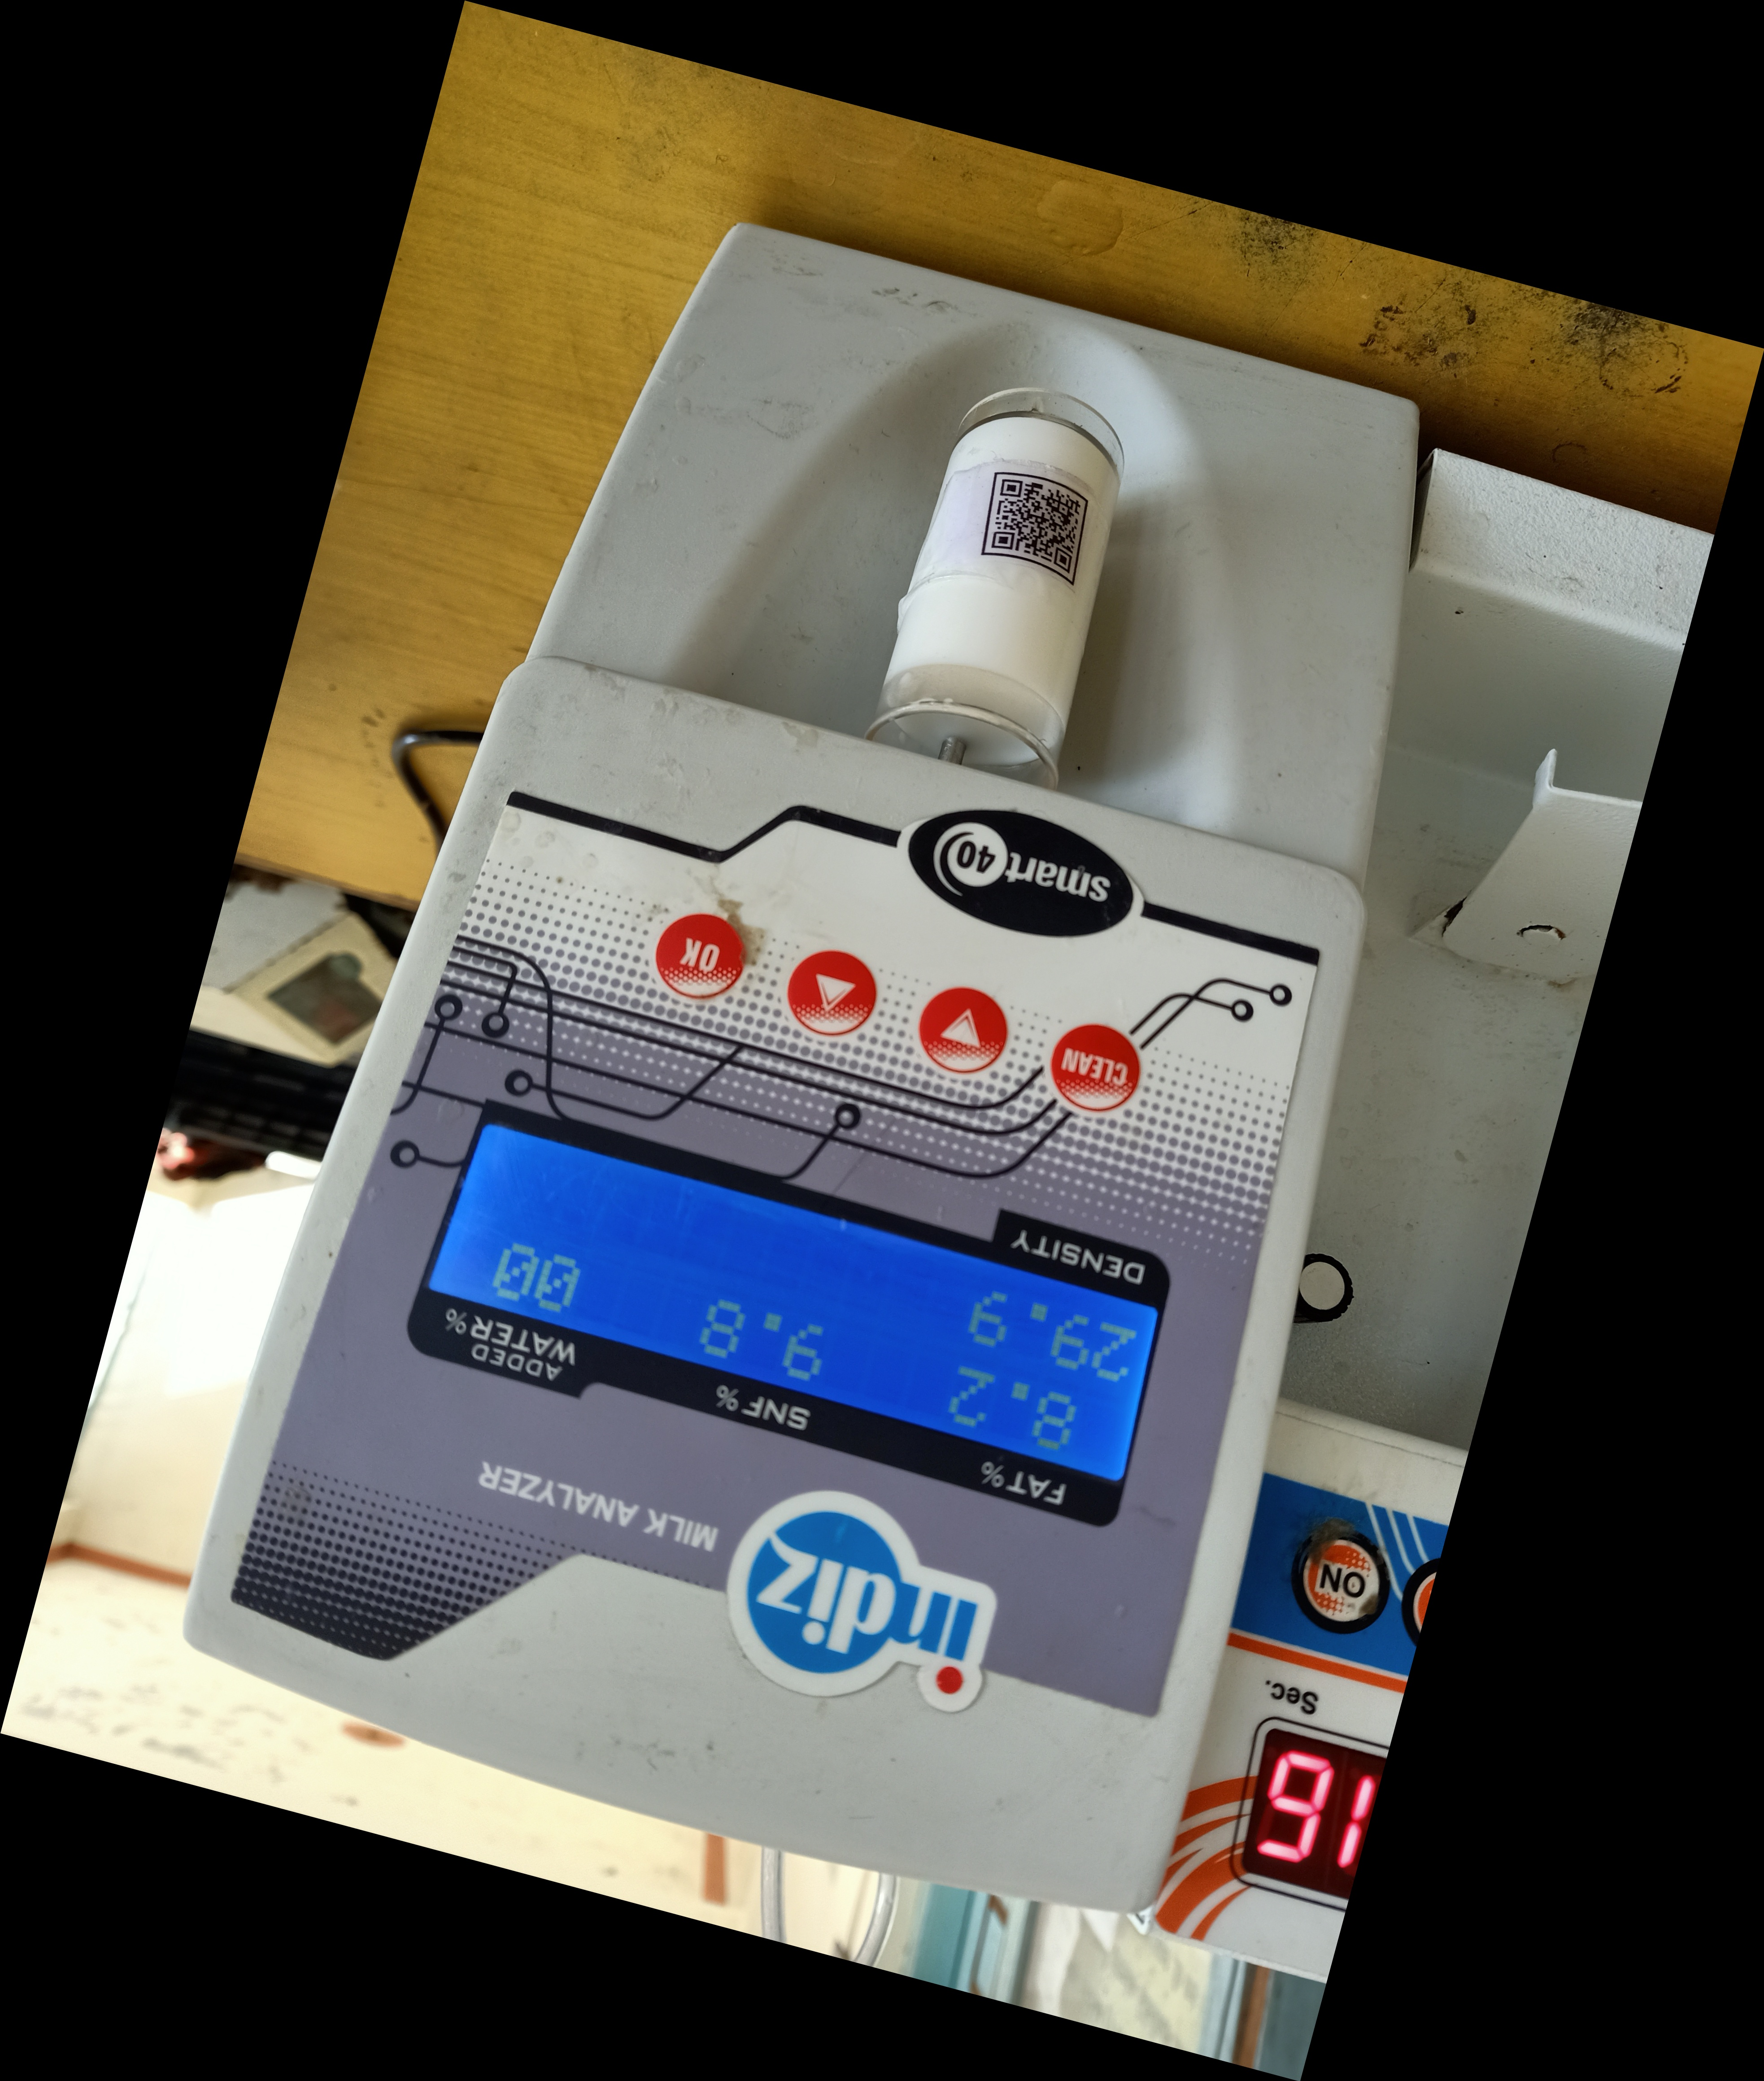lcd: (378, 1078, 1188, 1572)
qr: (969, 464, 1104, 599)
